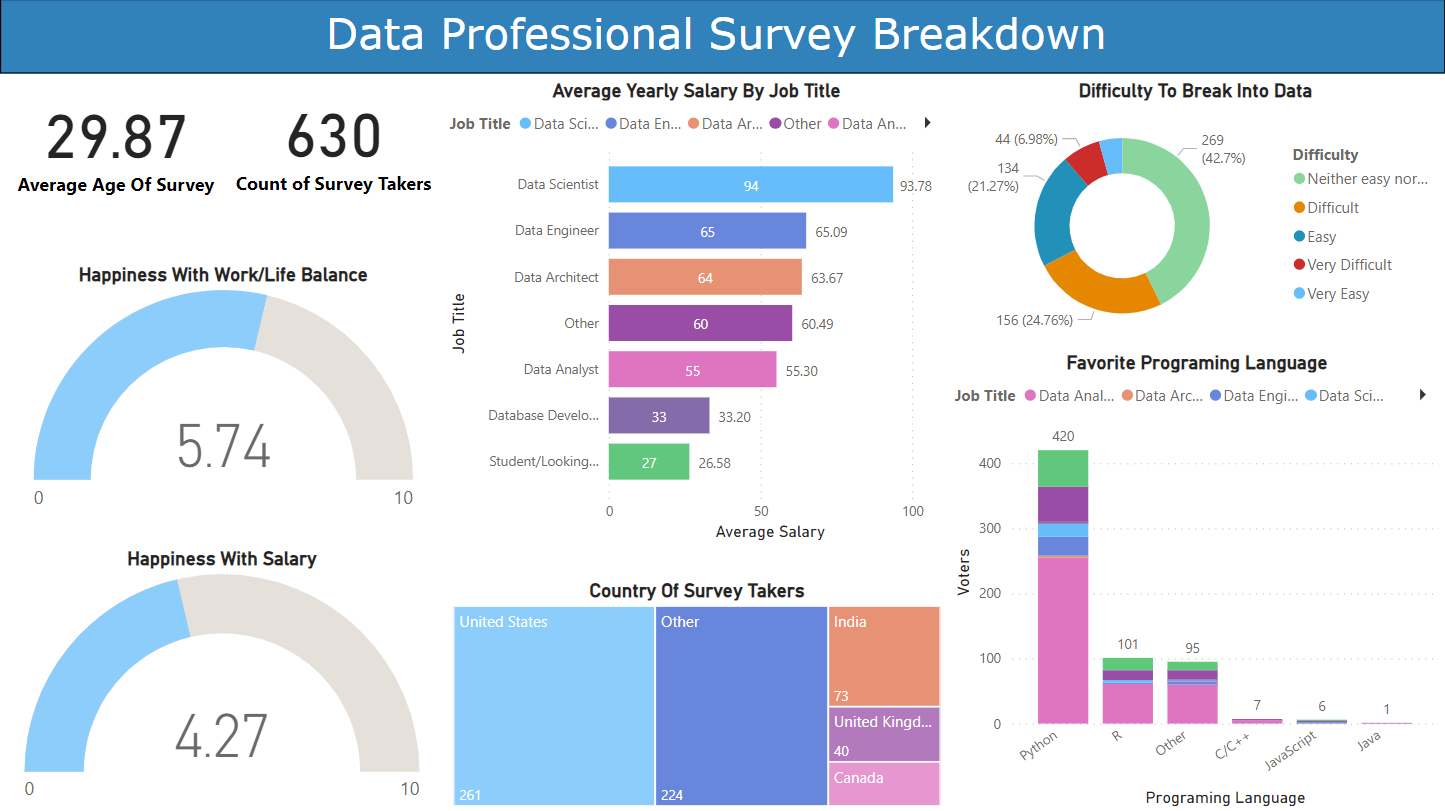

This screenshot's page, from the dashboard's own definition file:
{"tool":"powerbi","page":{"name":"Page 1","canvas":[1280,720],"ordinal":0},"visuals":[{"type":"textbox","box":[4.4,144.4,442.8,216.1],"z":0},{"type":"textbox","box":[0,0,1279.7,66.4],"z":1000},{"type":"card","fields":{"Values":["Count(Data Professional Survey.Unique ID)"]},"box":[198,66,194,116],"z":2000},{"type":"card","fields":{"Values":["Avg(Data Professional Survey.Q10 - Current Age)"]},"box":[7,66,191,118],"z":3000},{"type":"barChart","title":" Average Yearly Salary By Job Title","fields":{"Category":["Data Professional Survey.Q1 - Which Title Best Fits your Current Role?.1"],"Y":["Avg(Data Professional Survey.Avergae Yearly Salary)"],"Series":["Data Professional Survey.Q1 - Which Title Best Fits your Current Role?.1"]},"box":[393.8,107.5,447.5,390],"z":4000},{"type":"columnChart","title":"Favorite Programing Language ","fields":{"Category":["Data Professional Survey.Q5 - Favorite Programming Language.1"],"Y":["CountNonNull(Data Professional Survey.Unique ID)"],"Series":["Data Professional Survey.Q1 - Which Title Best Fits your Current Role?.1"]},"box":[840,360,440,360],"z":5000},{"type":"treemap","title":"Country Of Survey Takers","fields":{"Group":["Data Professional Survey.Q11 - Which Country do you live in?.1"],"Values":["CountNonNull(Data Professional Survey.Q11 - Which Country do you live in?.1)"]},"box":[397,514,441,206],"z":6000},{"type":"gauge","title":"Happiness With Work/Life Balance","fields":{"Y":["Avg(Data Professional Survey.Q6 - How Happy are you in your Current Position with the following? (Work/Life Balance))"],"MinValue":["Min(Data Professional Survey.Q6 - How Happy are you in your Current Position with the following? (Work/Life Balance))"],"MaxValue":["Max(Data Professional Survey.Q6 - How Happy are you in your Current Position with the following? (Work/Life Balance))1"]},"box":[5,234,385,228],"z":7000},{"type":"gauge","title":"Happiness With Salary","fields":{"Y":["Avg(Data Professional Survey.Q6 - How Happy are you in your Current Position with the following? (Salary))"],"MinValue":["Min(Data Professional Survey.Q6 - How Happy are you in your Current Position with the following? (Salary))"],"MaxValue":["Max(Data Professional Survey.Q6 - How Happy are you in your Current Position with the following? (Salary))"]},"box":[3.8,485,386.2,235],"z":8000},{"type":"donutChart","title":"Difficulty To Break Into Data","fields":{"Category":["Data Professional Survey.Q7 - How difficult was it for you to break into Data?"],"Y":["CountNonNull(Data Professional Survey.Q7 - How difficult was it for you to break into Data?)"]},"box":[838,107,442,241],"z":9000}]}

Visuals, with their boxes in screenshot pixels (x1, y1, x2, y2), scaled from the page's 1280x720 canvas onto the 1445x811 screenshot:
textbox: [5,163,505,406]
textbox: [0,0,1444,75]
card - Count(Data Professional Survey.Unique ID): [224,74,443,205]
card - Avg(Data Professional Survey.Q10 - Current Age): [8,74,224,207]
" Average Yearly Salary By Job Title" barChart: [445,121,950,560]
"Favorite Programing Language " columnChart: [948,406,1444,810]
"Country Of Survey Takers" treemap: [448,579,946,810]
"Happiness With Work/Life Balance" gauge: [6,264,440,520]
"Happiness With Salary" gauge: [4,546,440,810]
"Difficulty To Break Into Data" donutChart: [946,121,1444,392]
